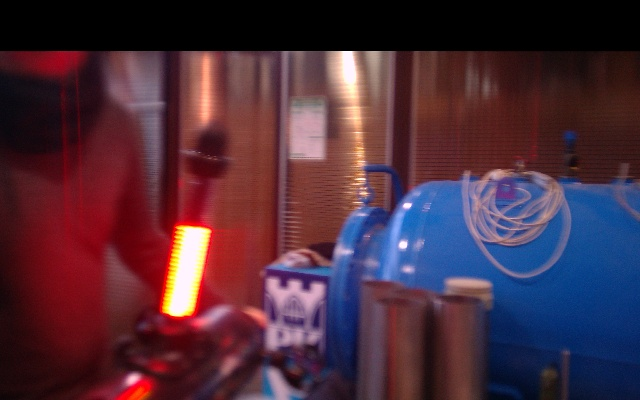red: (157, 224, 213, 319)
